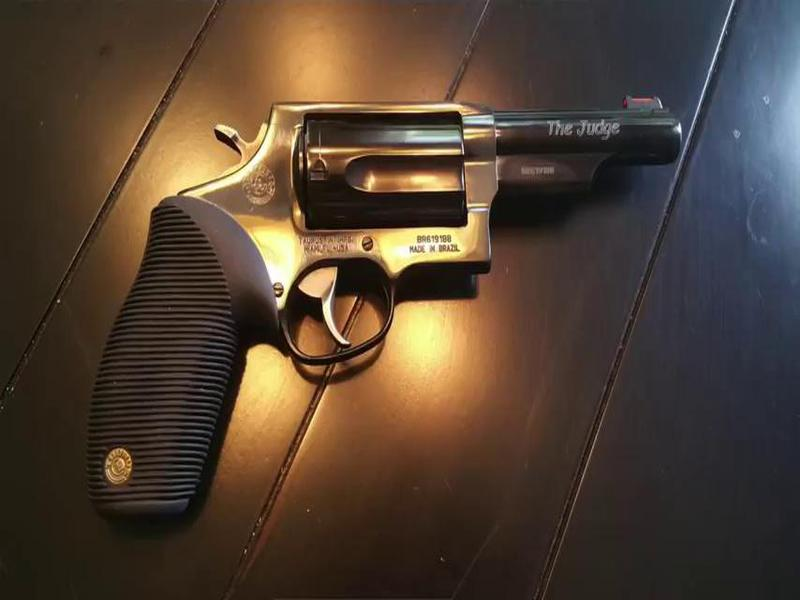Revolver: (95, 65, 692, 394)
